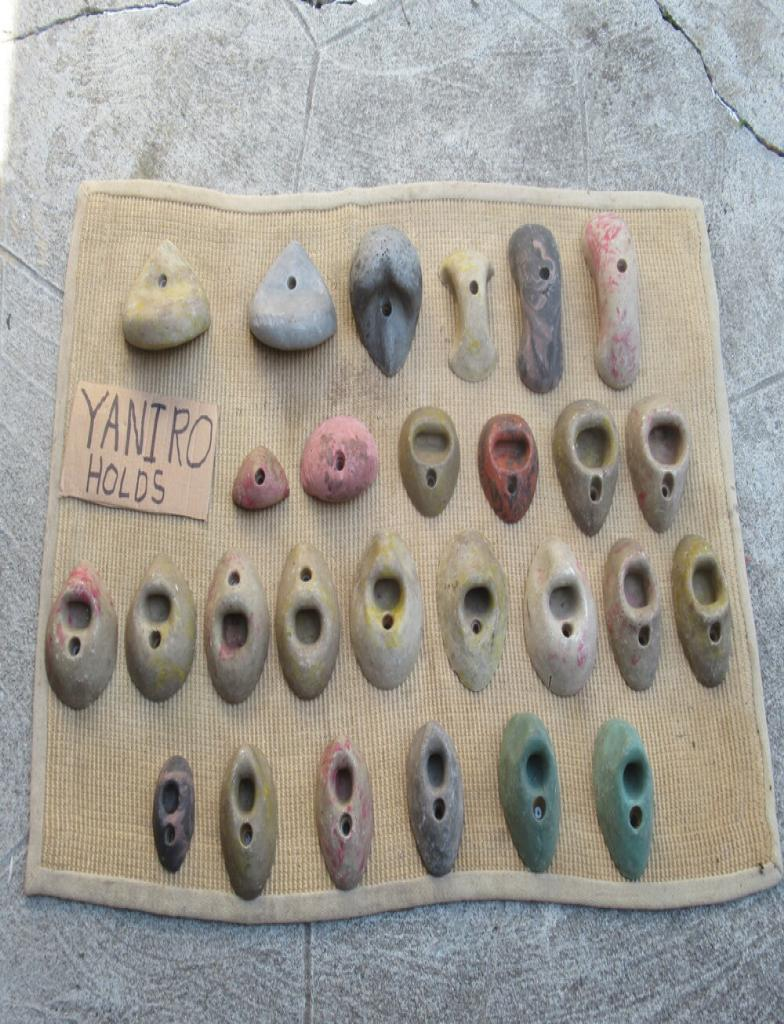jib: (233, 446, 289, 509)
pinch: (582, 213, 641, 389), (508, 224, 563, 392), (441, 251, 497, 381)
pocket: (525, 539, 597, 695), (350, 534, 423, 687), (437, 531, 506, 691), (45, 564, 117, 709), (125, 556, 195, 700), (275, 545, 339, 699), (205, 550, 269, 702), (499, 714, 560, 870), (594, 718, 653, 879), (553, 400, 619, 535), (672, 535, 731, 685), (220, 745, 277, 898), (626, 397, 691, 531), (603, 539, 661, 688), (408, 721, 463, 875), (316, 739, 372, 889), (397, 407, 459, 516), (479, 414, 537, 522), (153, 756, 194, 871)
sloper: (350, 225, 422, 375), (300, 416, 378, 501)
undercling: (122, 240, 210, 350), (249, 240, 336, 350)
